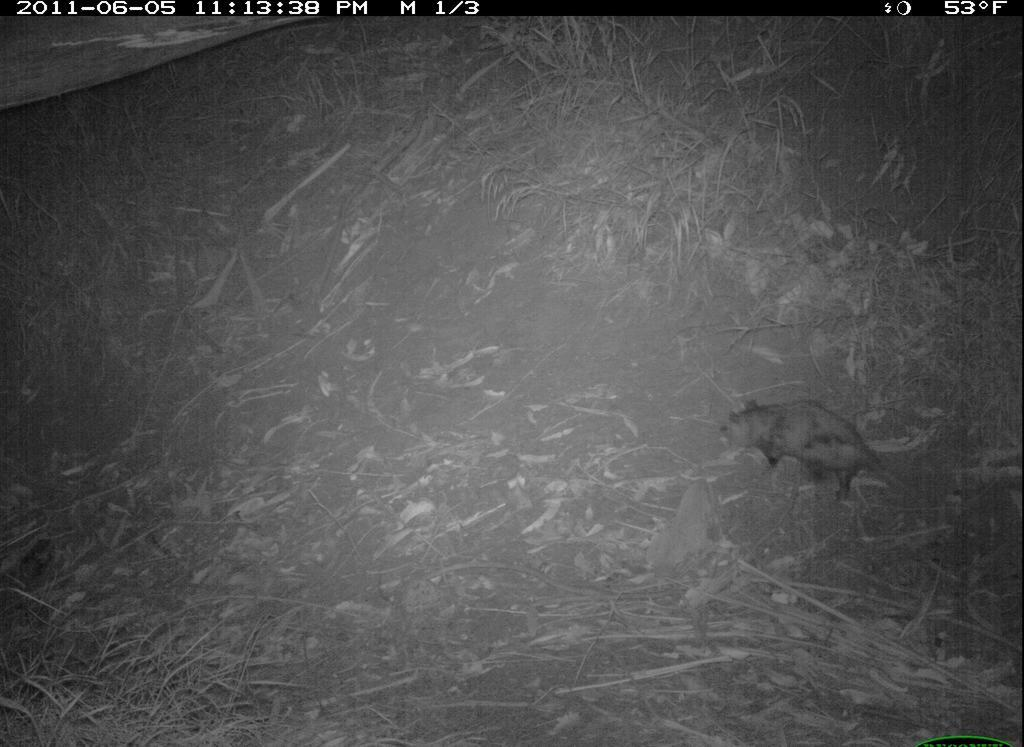opossum: (720, 397, 923, 511)
